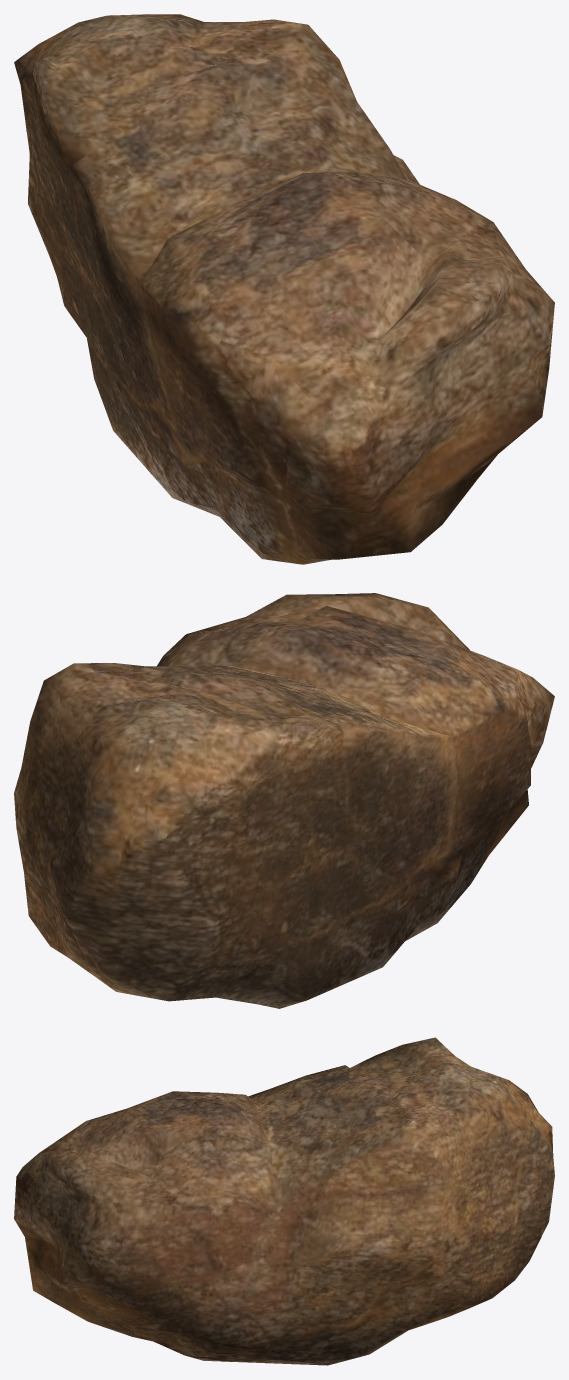
File: boulder_d.glb
3 views of the same model, one above another, from view 1: azimuth 30°, elevation 25°; view 2: azimuth 150°, elevation 25°; view 3: azimuth 270°, elevation 25° (orthographic). The views are drawn at different scales.
Visible parts, largest first — view 1: boulder_d; view 2: boulder_d; view 3: boulder_d.
Boxes of the visible parts, x1,y1,x2,y2 form: boulder_d: [14, 14, 554, 564]; boulder_d: [14, 593, 554, 1008]; boulder_d: [14, 1037, 554, 1365].
Size of the model in its own units: 0.6624 by 0.6465 by 1.21.
1 material, 1 textured.
